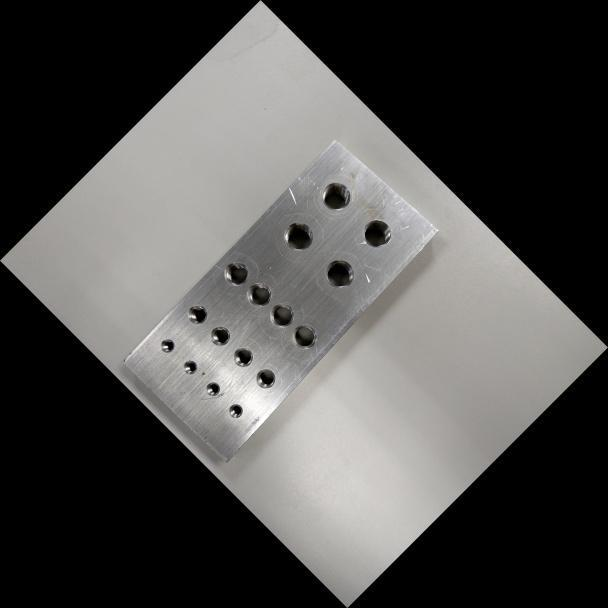hole: (317, 252, 360, 295), (277, 215, 320, 257), (315, 175, 357, 217), (356, 212, 398, 254), (240, 276, 277, 313), (286, 318, 323, 355), (218, 255, 255, 291), (263, 297, 300, 333), (182, 299, 212, 328), (205, 321, 235, 350), (228, 342, 257, 371), (251, 364, 280, 392), (156, 334, 177, 355), (179, 356, 200, 377), (202, 378, 223, 399), (225, 400, 246, 421)
